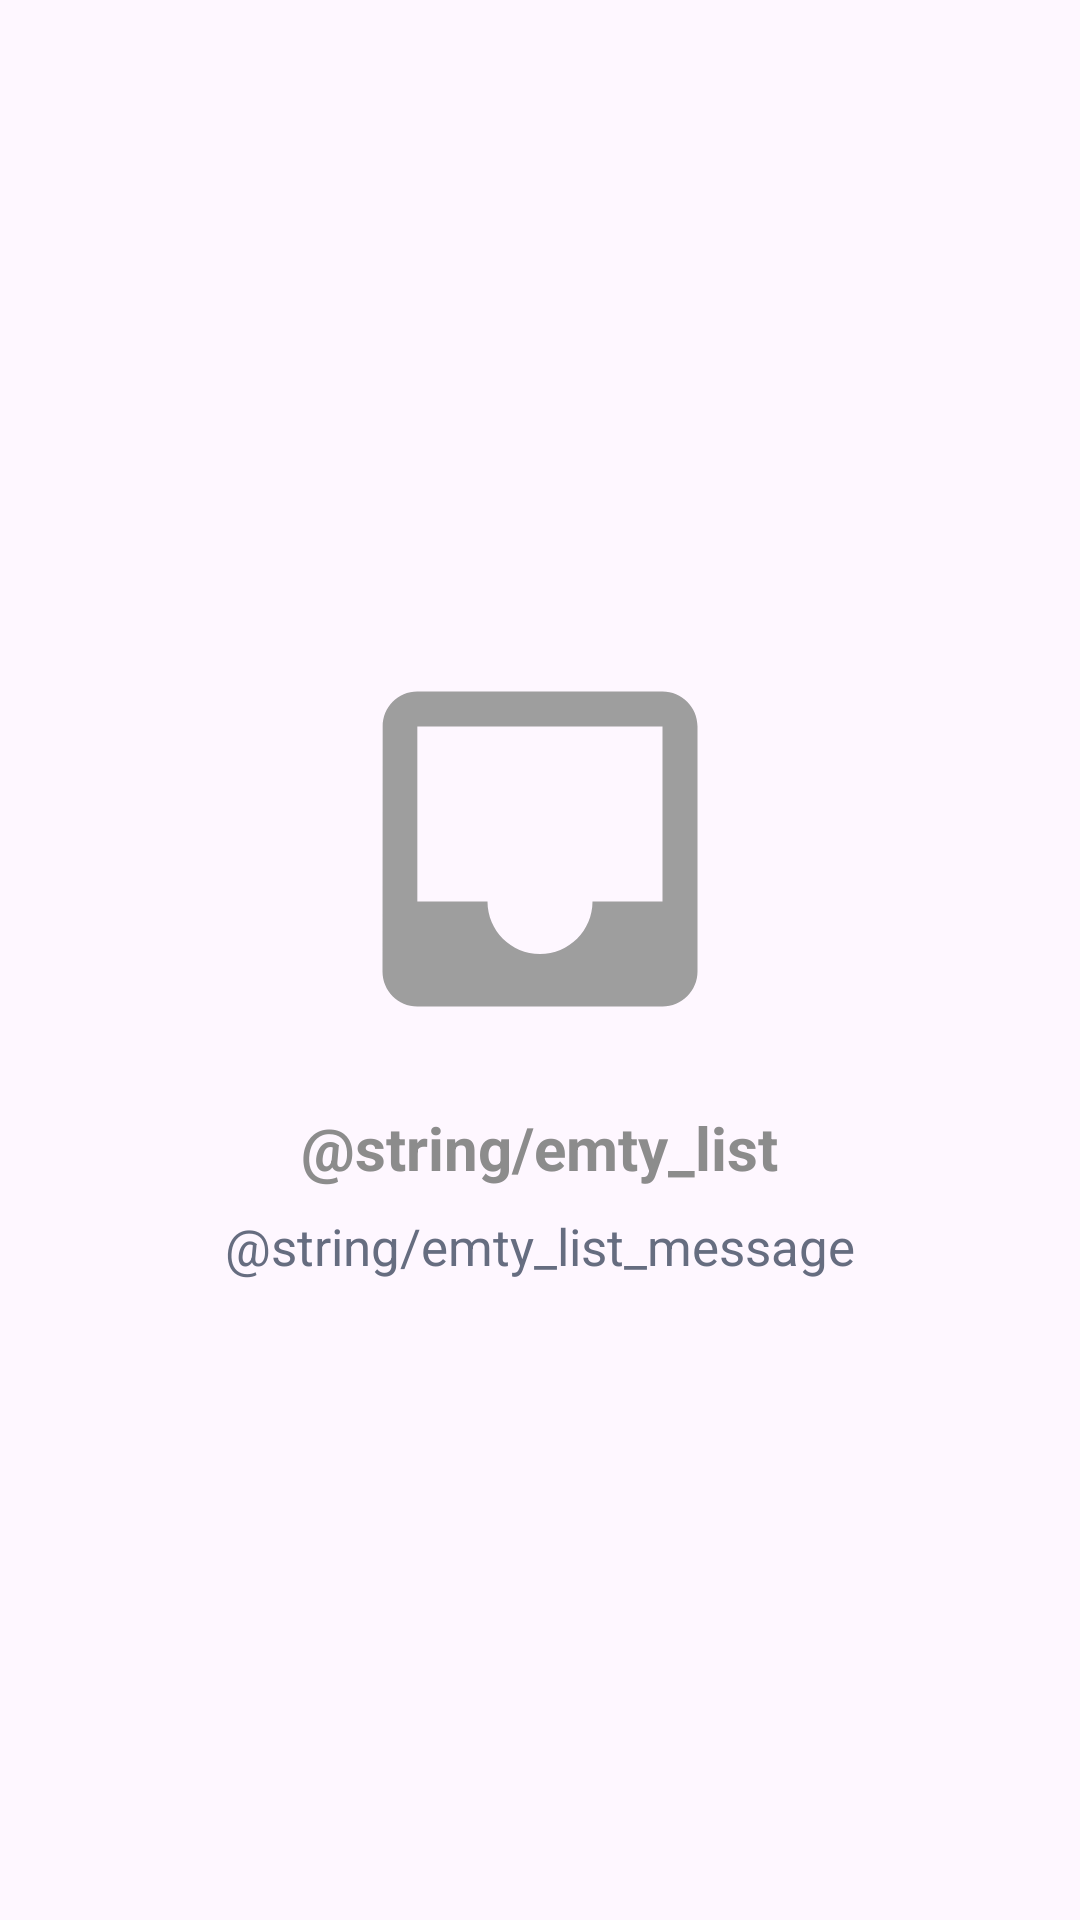

Icon click points for this 1080×1920 phone screenshot, format (x=x, y=y):
empty list: (x=540, y=849)
